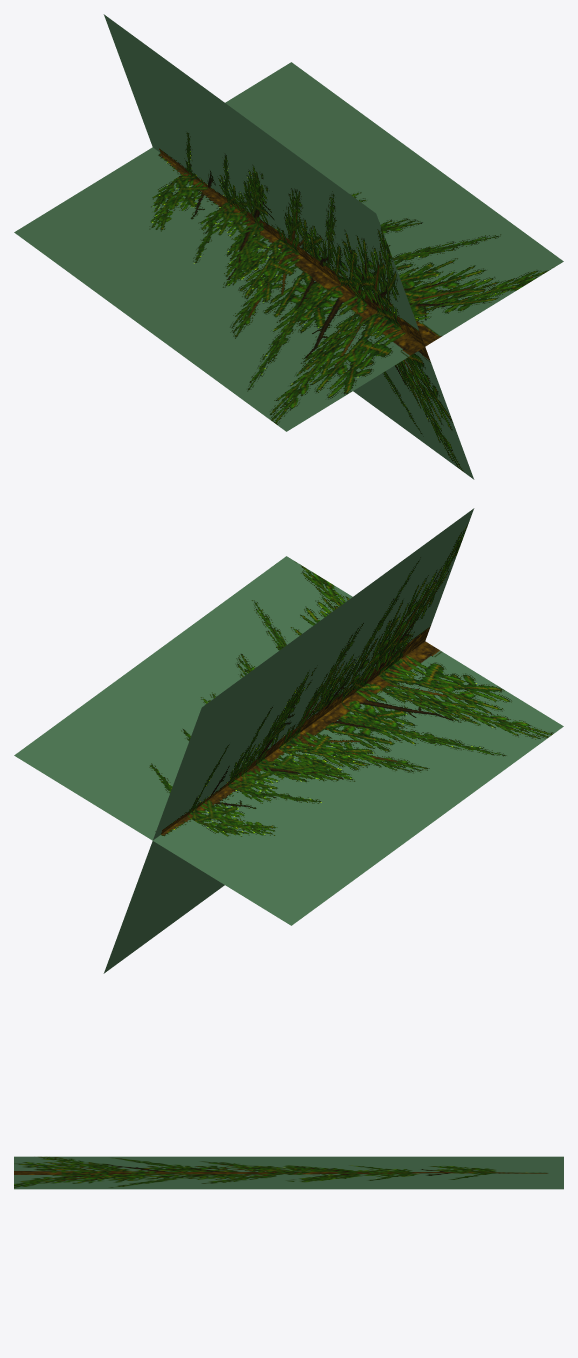
File: pineLow_LOD100.glb
3 views of the same model, one above another, from view 1: azimuth 30°, elevation 25°; view 2: azimuth 150°, elevation 25°; view 3: azimuth 270°, elevation 25° (orthographic).
Parts seen in each view (by area): view 1: tree_1Low.png__; view 2: tree_1Low.png__; view 3: tree_1Low.png__.
Boxes of the visible parts, x1,y1,x2,y2 form: tree_1Low.png__: [14, 14, 563, 479]; tree_1Low.png__: [14, 508, 563, 973]; tree_1Low.png__: [14, 1156, 563, 1189].
Size of the model in its own units: 7.5 by 7.5 by 12.77.
Materials: 1 (1 with a texture image).
